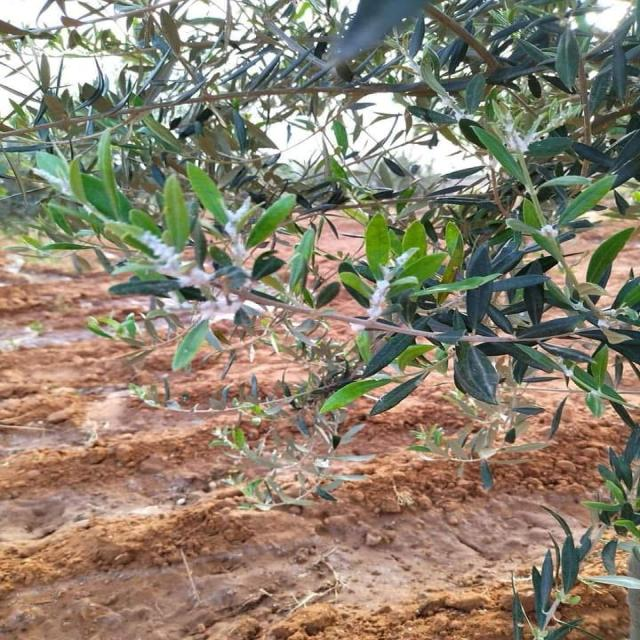Psyllid: (140, 231, 212, 287), (491, 106, 533, 155), (200, 293, 244, 323), (369, 277, 389, 319), (540, 225, 557, 239), (597, 320, 609, 329)
